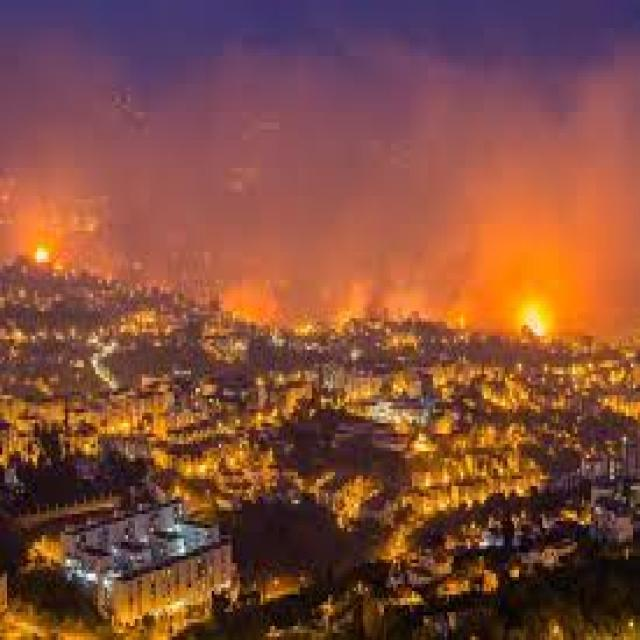Fire: (514, 313, 560, 337), (28, 238, 56, 271)
